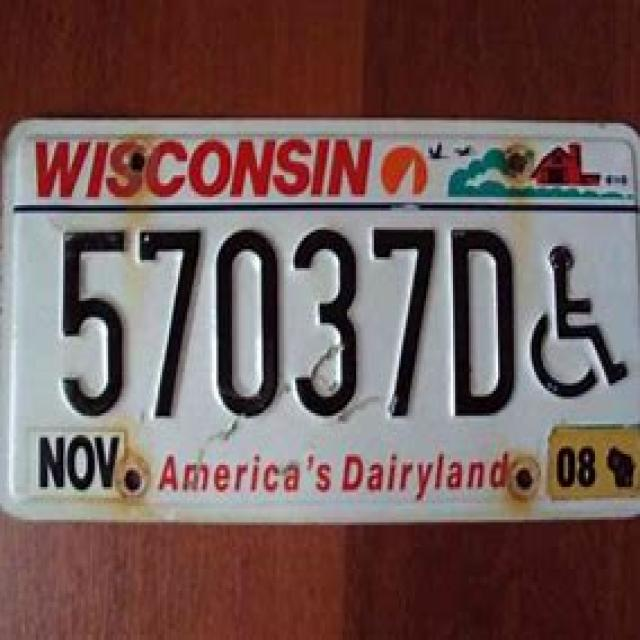car-handicap-placard: (530, 242, 630, 403)
